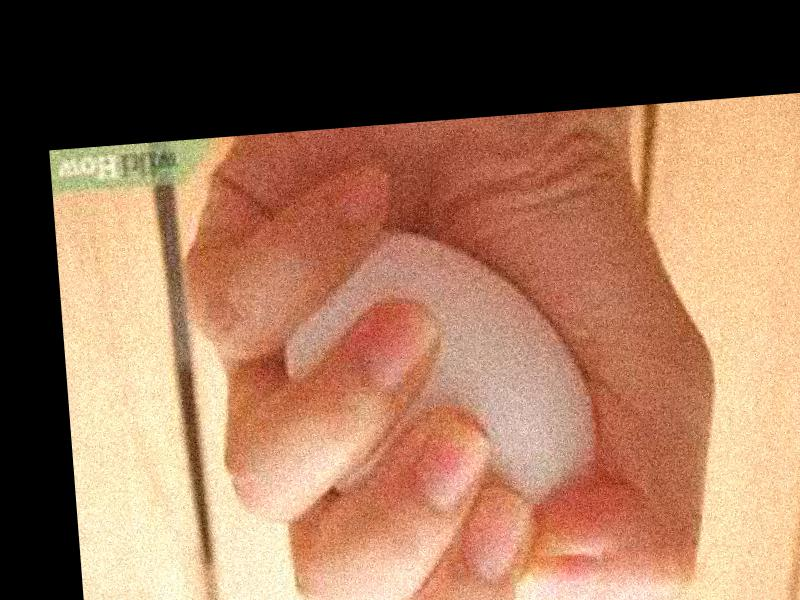Eggs: (271, 217, 603, 555)
